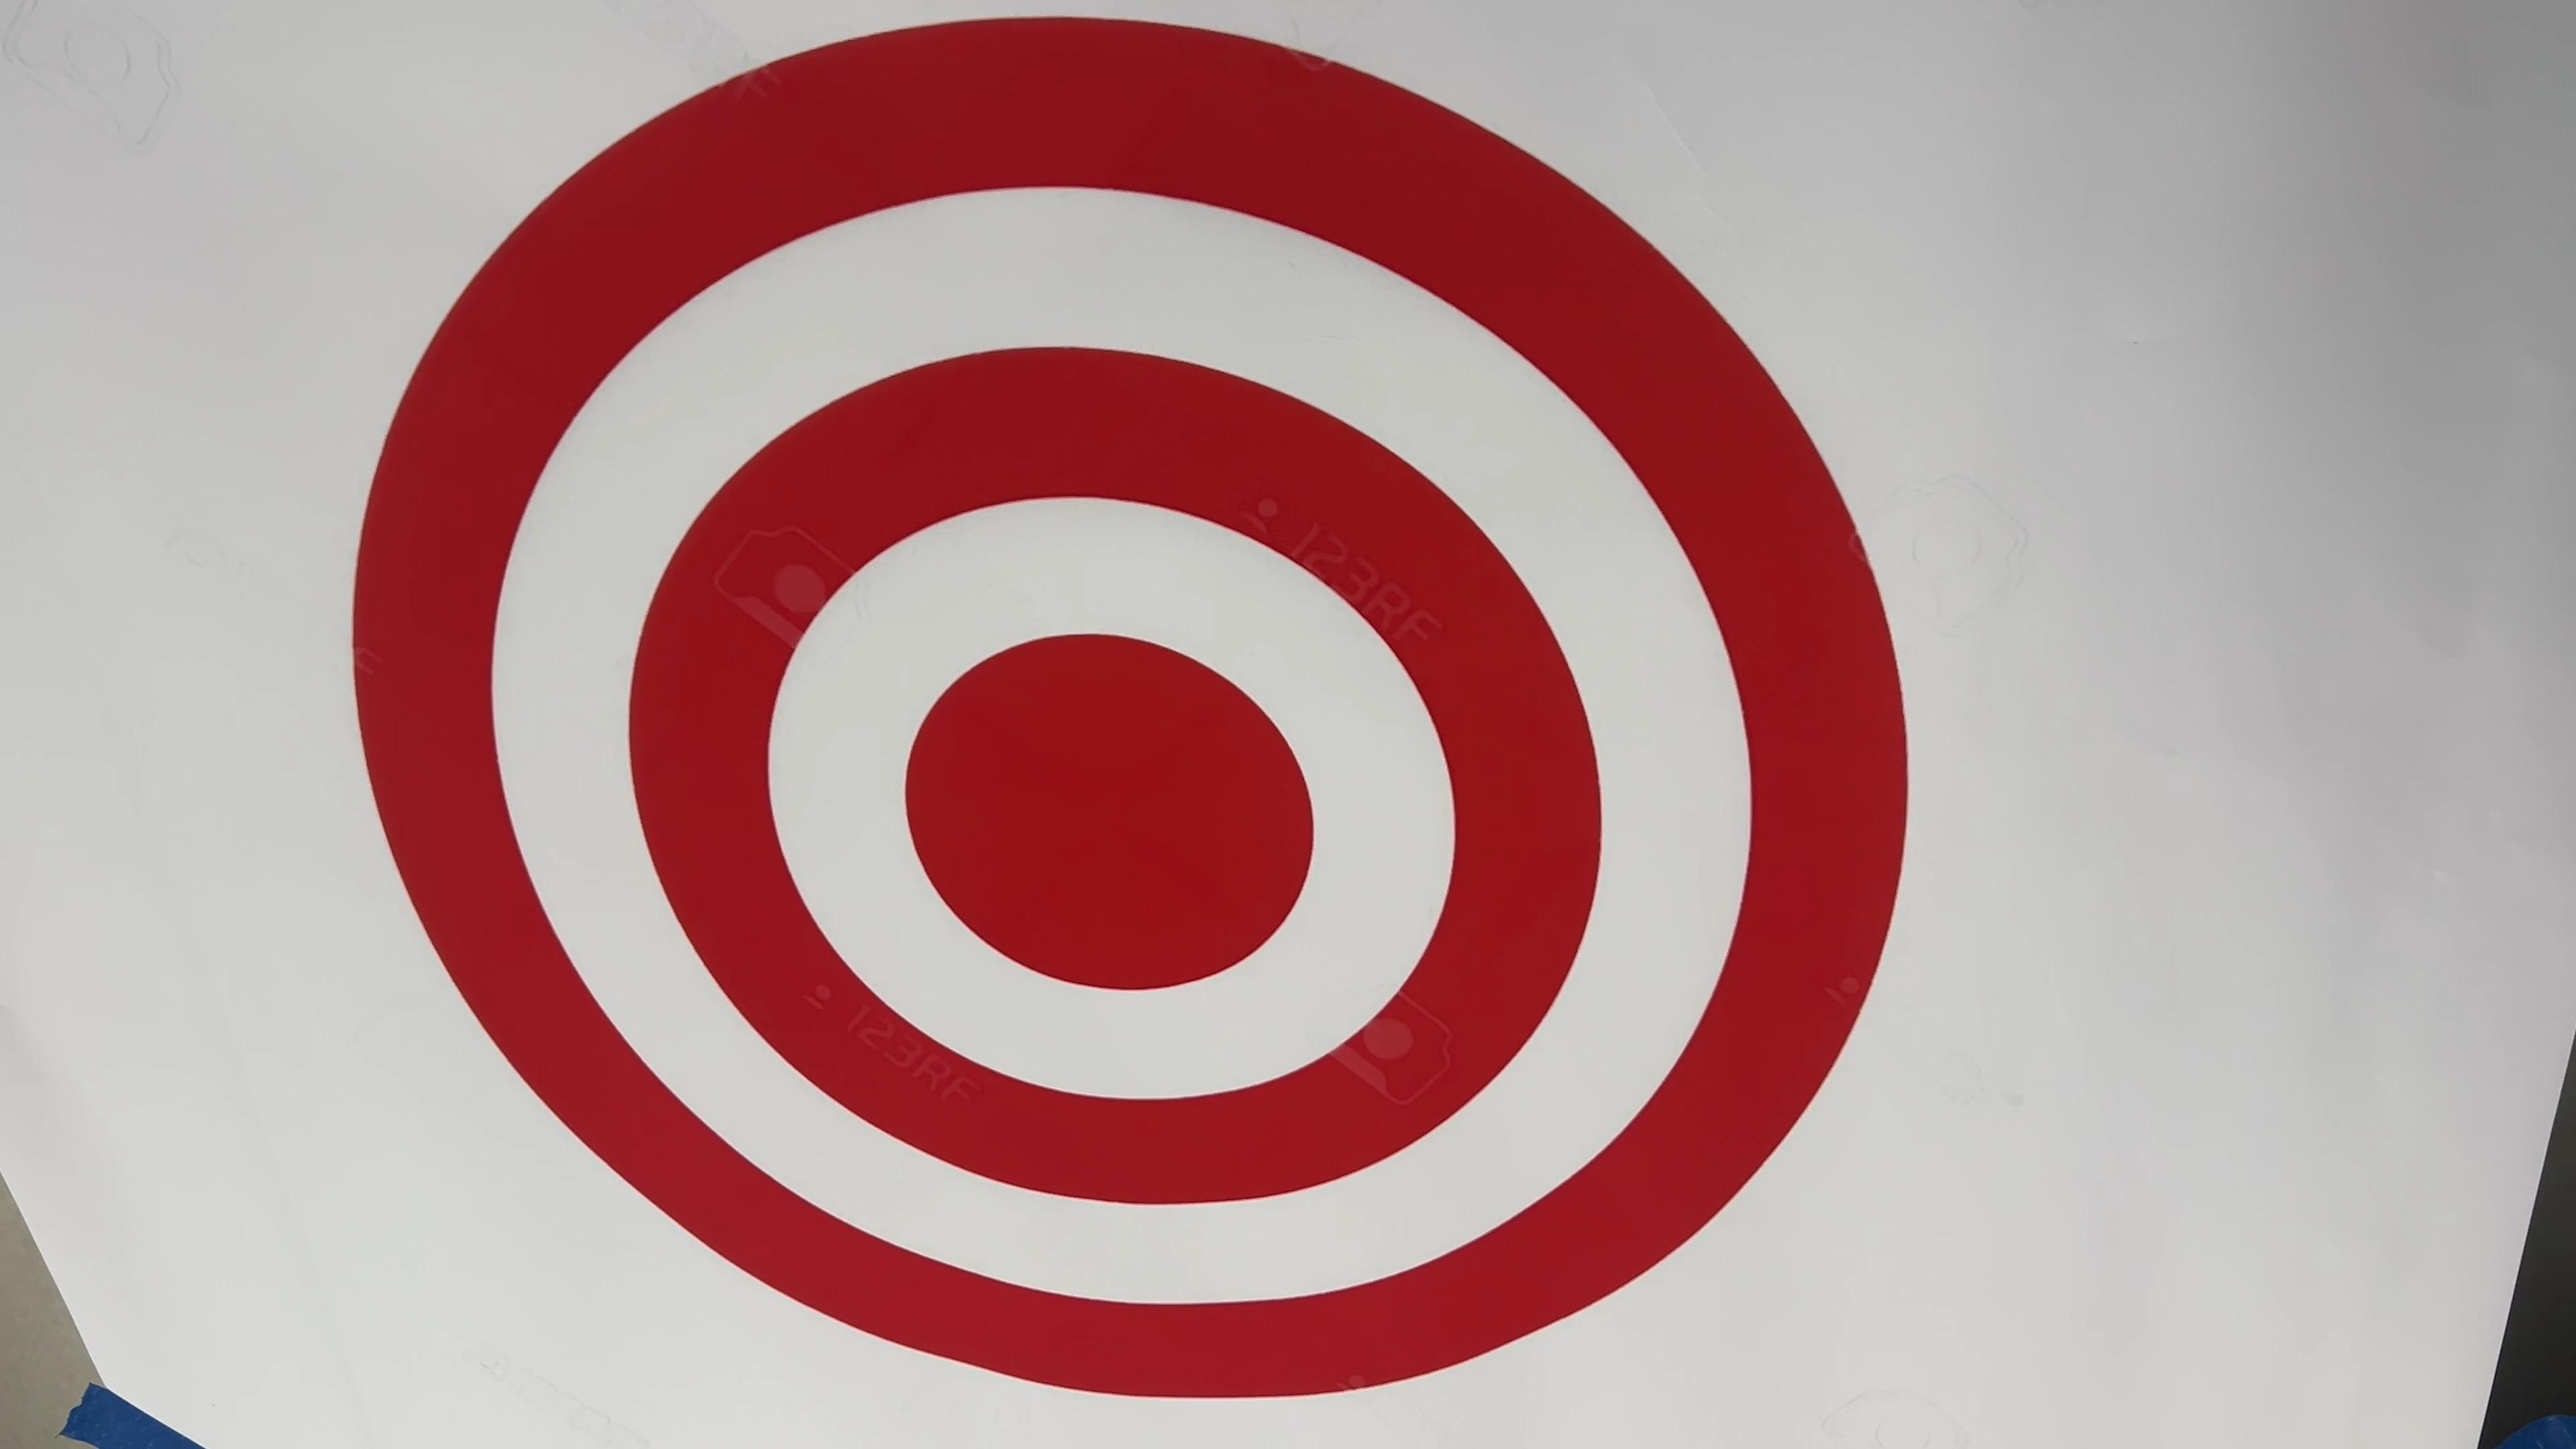target_red: (264, 32, 1951, 1449)
